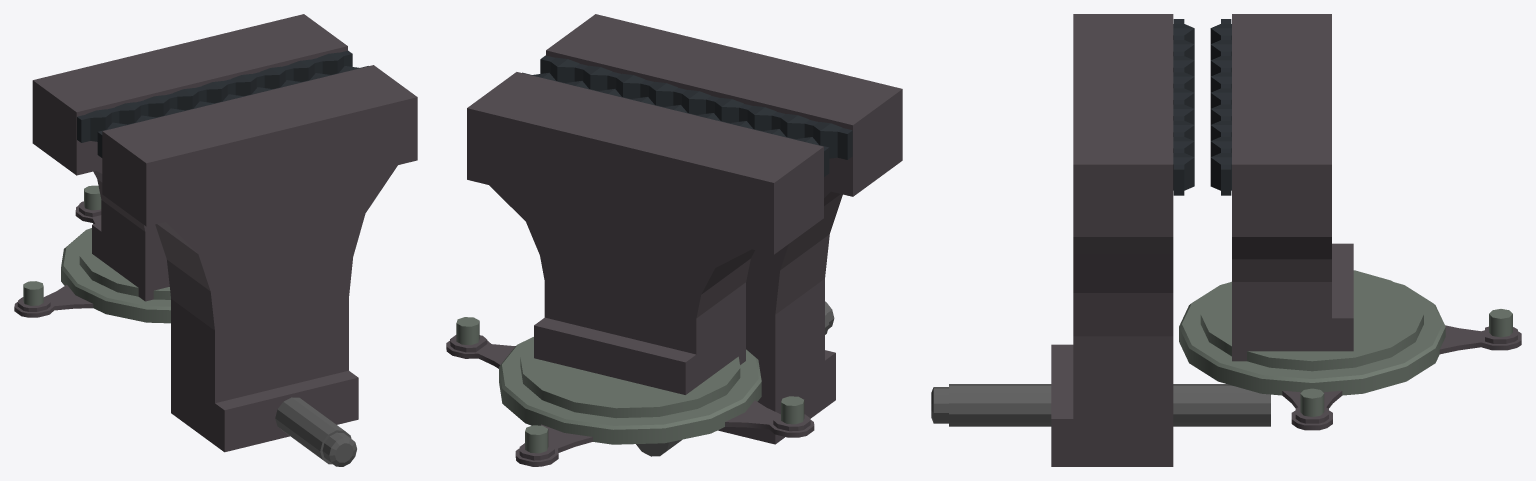
The model's file is SM_metal_jam.fbx.
3 views of the same model, side by side, from view 1: azimuth 30°, elevation 25°; view 2: azimuth 150°, elevation 25°; view 3: azimuth 270°, elevation 25° (orthographic). The views are drawn at different scales.
Visible parts, largest first — view 1: metal_jam; view 2: metal_jam; view 3: metal_jam.
Part boxes in pixels (<box>): metal_jam: <box>14,14,417,466</box>; metal_jam: <box>446,14,902,466</box>; metal_jam: <box>931,14,1521,466</box>.
Bounding box in the file's own units: 64.35 × 57.71 × 90.74.
